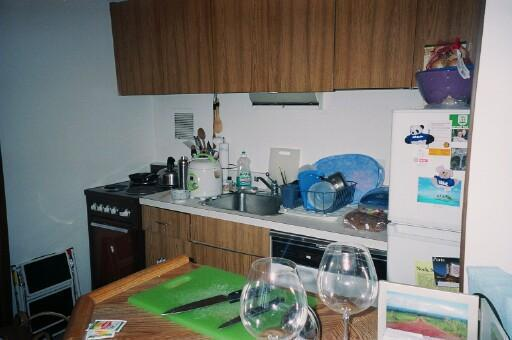Electrodomestico: (382, 113, 465, 323), (82, 193, 144, 304)
Lavaplatos: (196, 163, 279, 218)
Otro Obstaculo: (10, 247, 80, 322)
